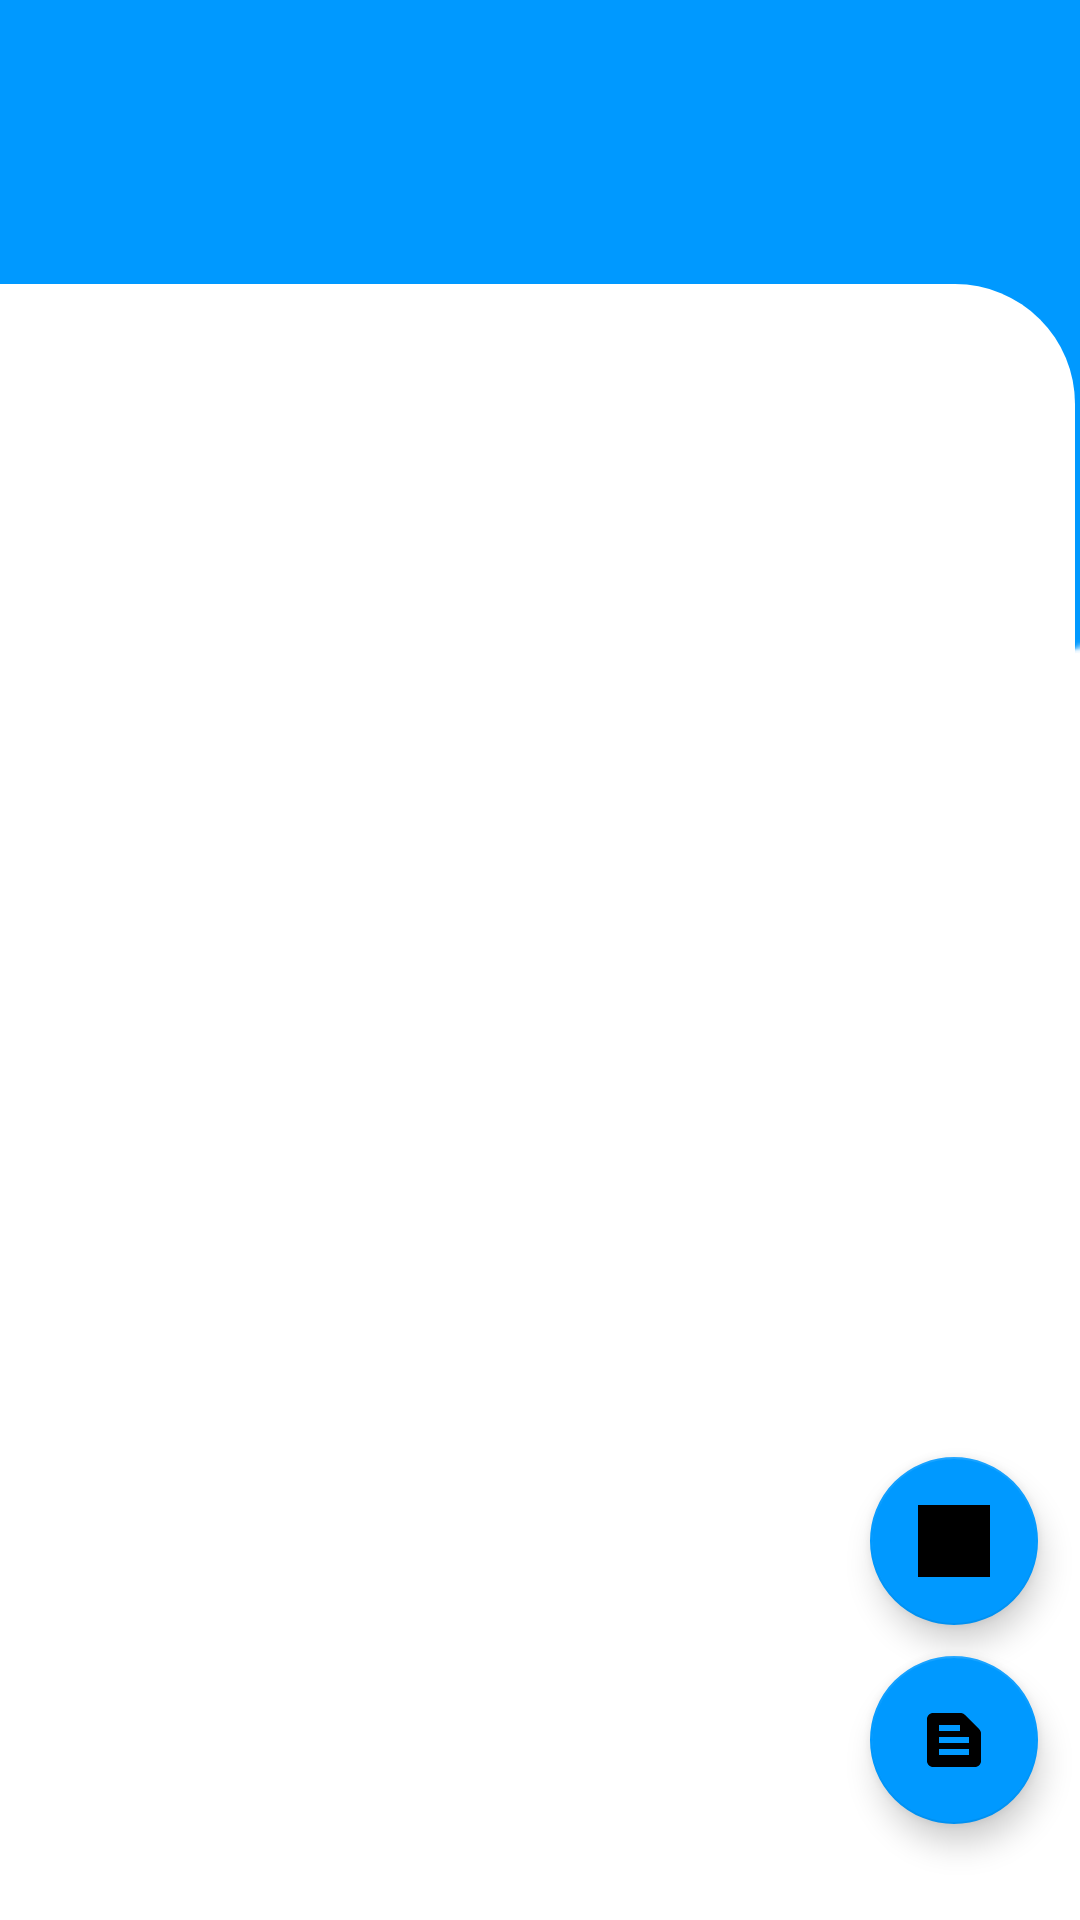

Icons on this 1080 x 1920 Android screen, each with its box as (x1, y1, x2, y2):
text snippet: (870, 1656, 1038, 1824)
